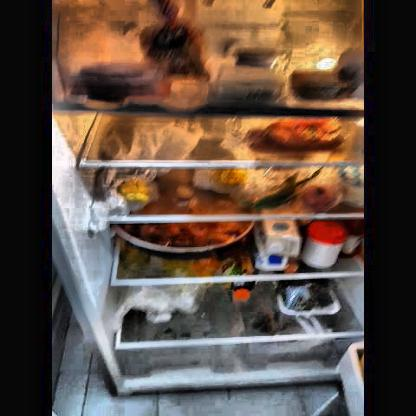broccoli: (281, 281, 334, 309)
green_chillies: (240, 184, 298, 209)
lemon: (117, 179, 157, 207), (216, 168, 247, 188)
milk: (258, 220, 300, 269)
tomato: (302, 187, 338, 209)
